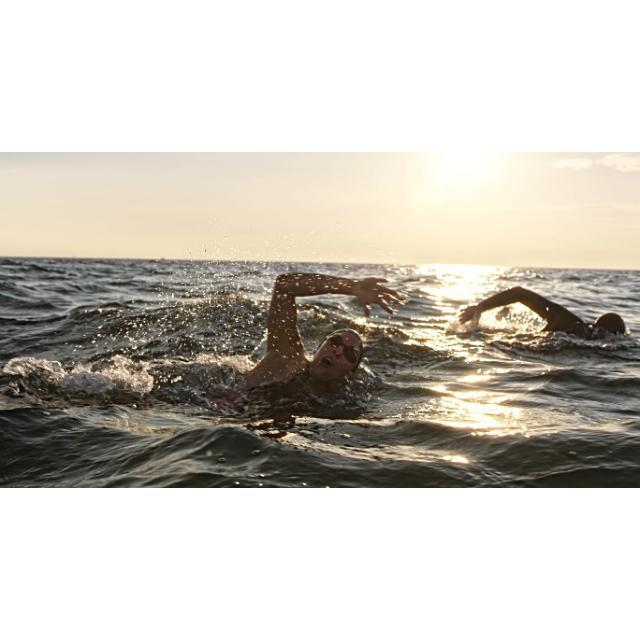human: (221, 274, 396, 409), (461, 284, 627, 344)
